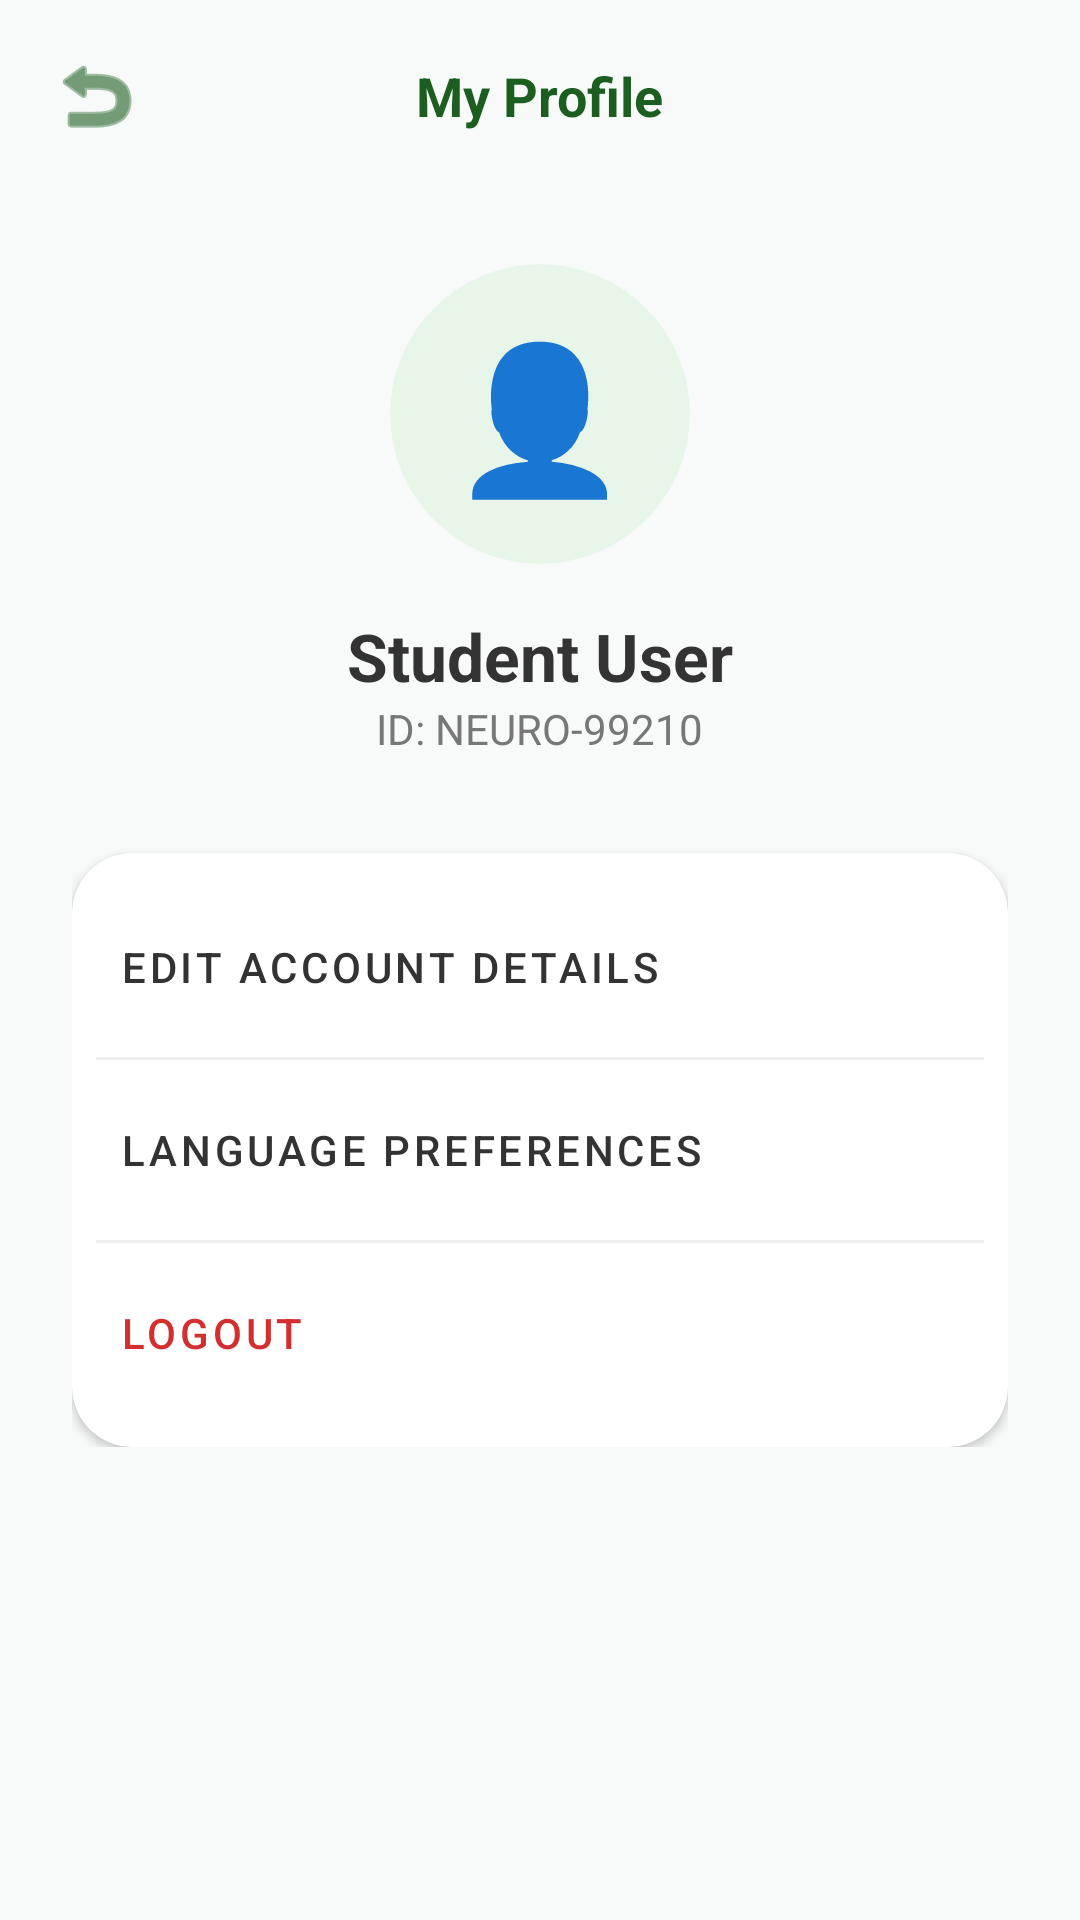

Where icons sit on this 1080×1920 app screen, as BBox(x1, y1, x2, y2):
Go back to home: BBox(63, 65, 132, 128)
